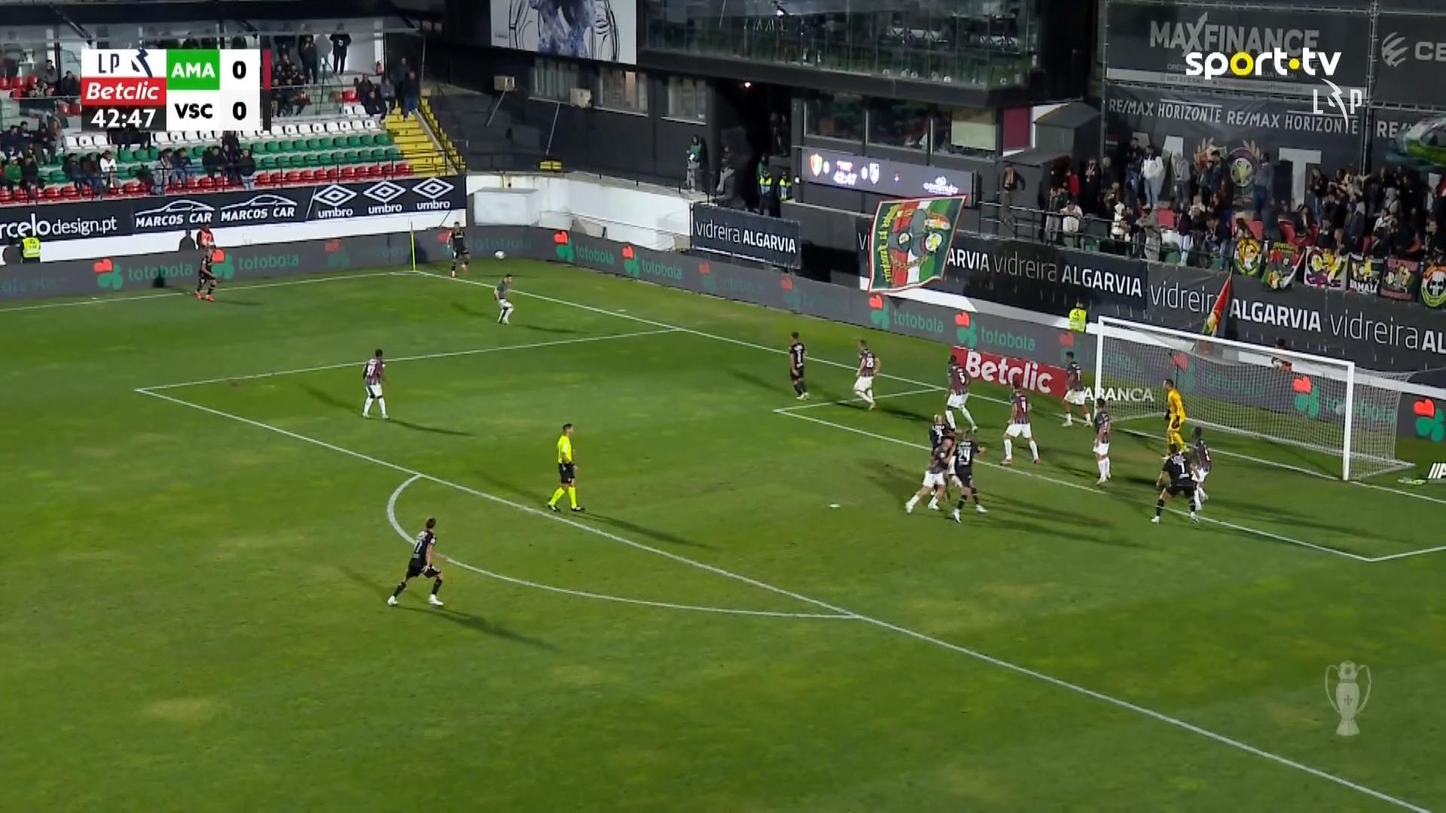ball: (1230, 157, 1253, 185), (494, 250, 505, 259)
player: (386, 516, 444, 607), (904, 413, 956, 513), (1149, 441, 1202, 524), (945, 429, 989, 522), (999, 379, 1041, 466), (943, 352, 978, 433), (1060, 349, 1093, 427), (851, 337, 880, 411), (1161, 377, 1187, 456), (1185, 425, 1211, 503), (361, 348, 389, 419), (1091, 396, 1112, 486), (788, 330, 810, 400), (445, 220, 470, 277), (194, 245, 217, 301), (493, 273, 514, 324)
referee: (545, 422, 585, 512)
